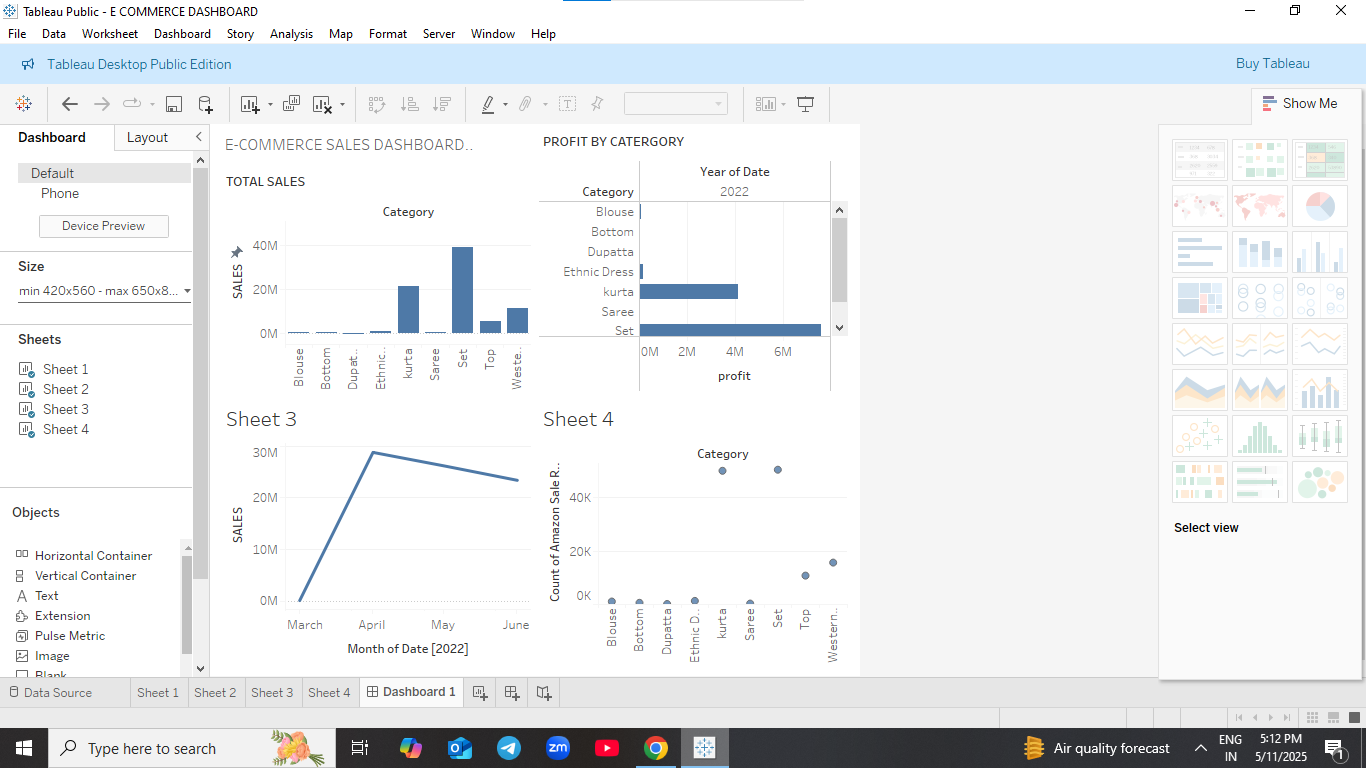

This screenshot's page, from the dashboard's own definition file:
{"tool":"tableau","page":{"name":"Dashboard 1","canvas":[650,860],"ordinal":0},"visuals":[{"type":"text","box":[8,12.3,317,61.4]},{"type":"worksheet","title":"Sheet 2","mark":"Bar","rows":["Category"],"cols":["Date","Calculation_896216333897592833"],"box":[325,12.3,317,417.7]},{"type":"worksheet","title":"Sheet 1","mark":"Automatic","rows":["Amount"],"cols":["Category"],"box":[8,73.7,317,356.3]},{"type":"worksheet","title":"Sheet 3","mark":"Automatic","rows":["Amount"],"cols":["Date"],"box":[8,430,317,417.7]},{"type":"worksheet","title":"Sheet 4","mark":"Multipolygon","rows":["Amazon Sale Report.csv_A4CE33CC31594A3ABC8A34A07EAEA894"],"cols":["Category"],"box":[325,430,317,417.7]}]}

Visuals, with their boxes on the page's 650x860 design canvas (x1, y1, x2, y2). These are canvas units, not pixel positions in the 1366x768 screenshot, which may show the page scaled, cropped or inside an application window:
text: Rect(8, 12, 325, 74)
"Sheet 2" worksheet (Bar marks): Rect(325, 12, 642, 430)
"Sheet 1" worksheet: Rect(8, 74, 325, 430)
"Sheet 3" worksheet: Rect(8, 430, 325, 848)
"Sheet 4" worksheet (Multipolygon marks): Rect(325, 430, 642, 848)
